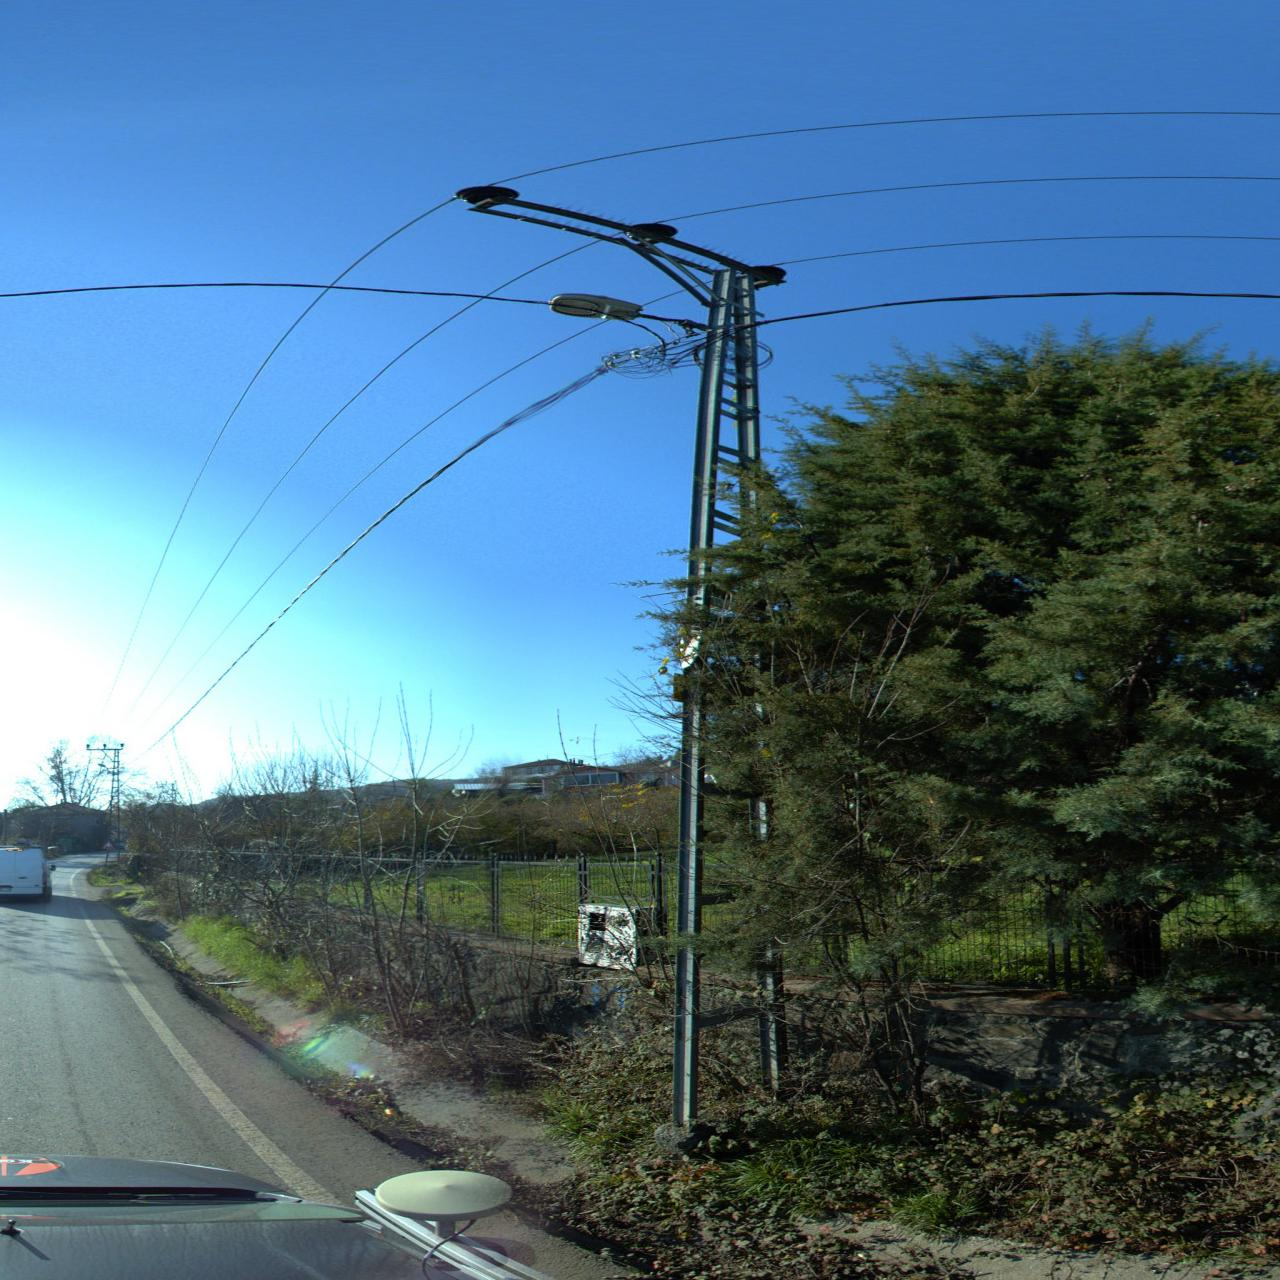Utility Pole Information Plate: (673, 634, 702, 670)
